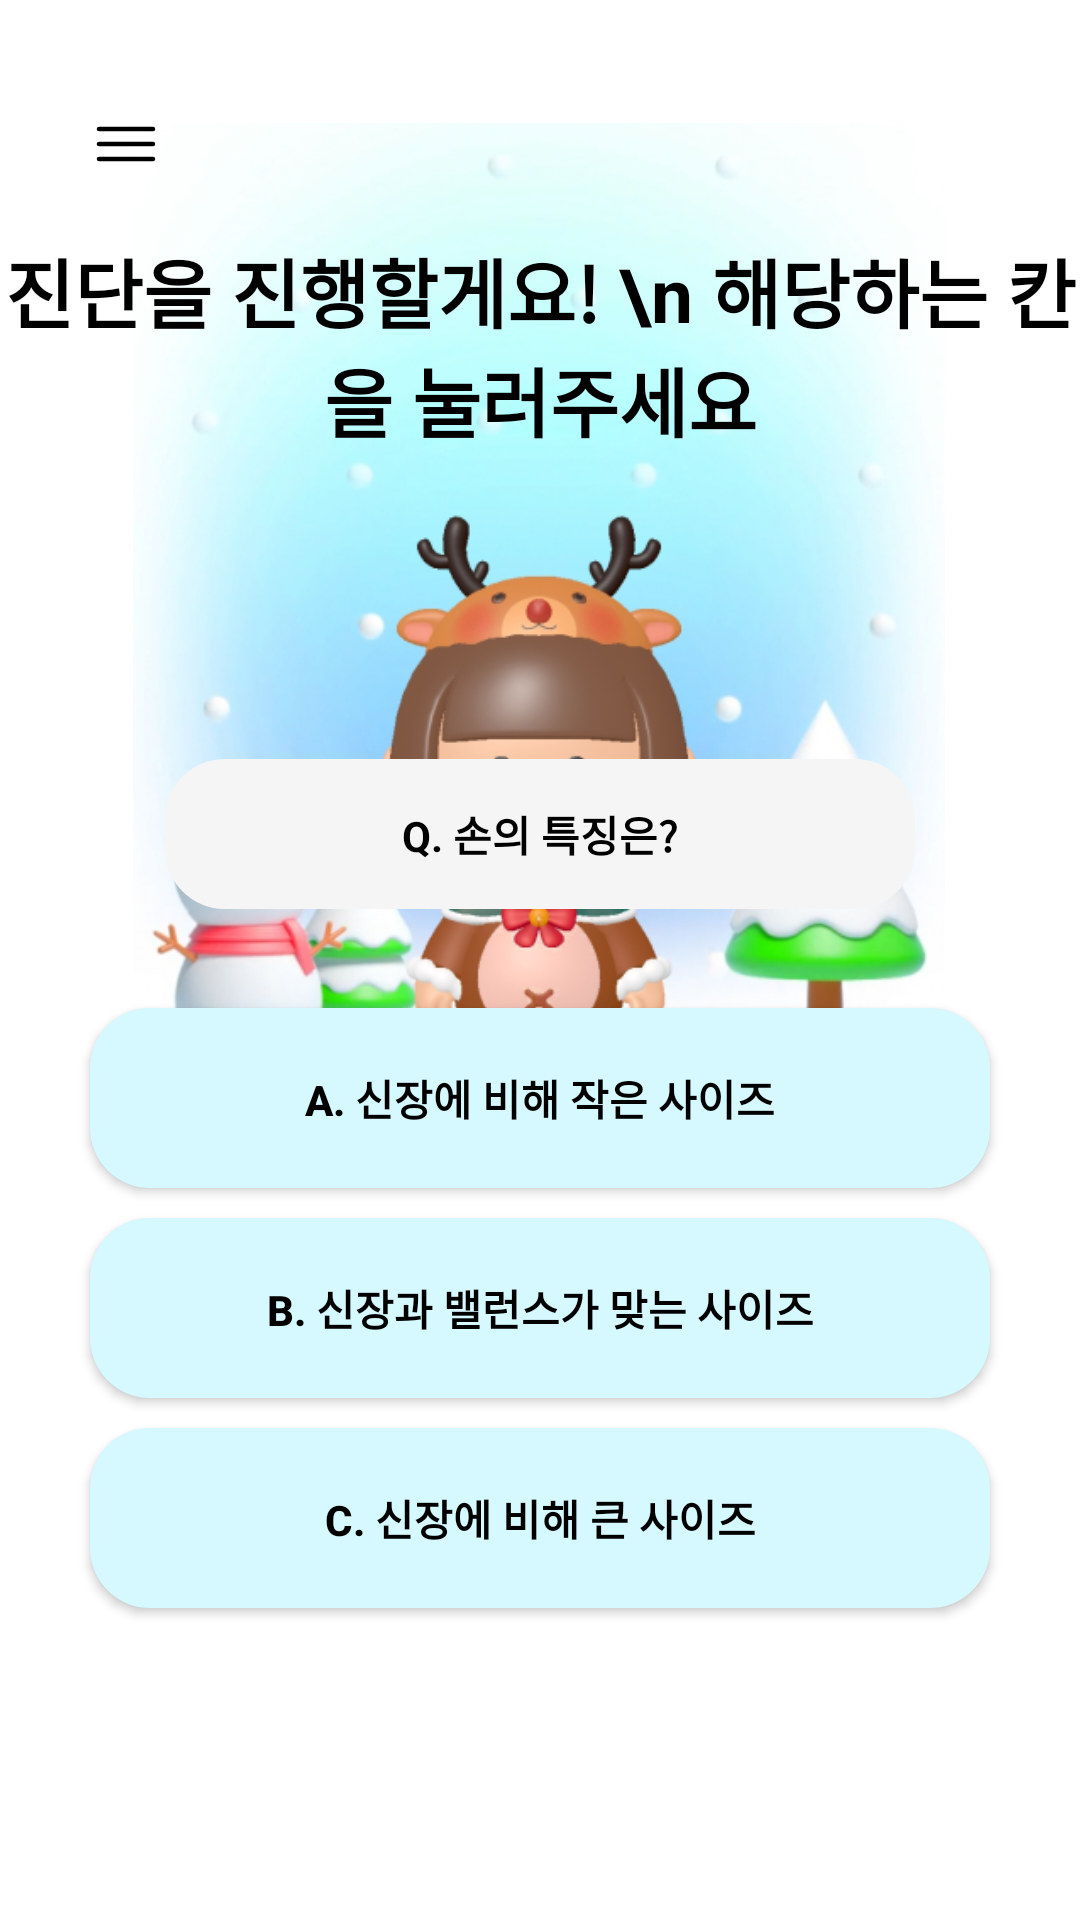

Locate icon controls on the screen. Image size 1080px×1920px, boxes as bbox=[x1, y1, x2, y2].
hamburger menu: bbox=[96, 126, 155, 162]
